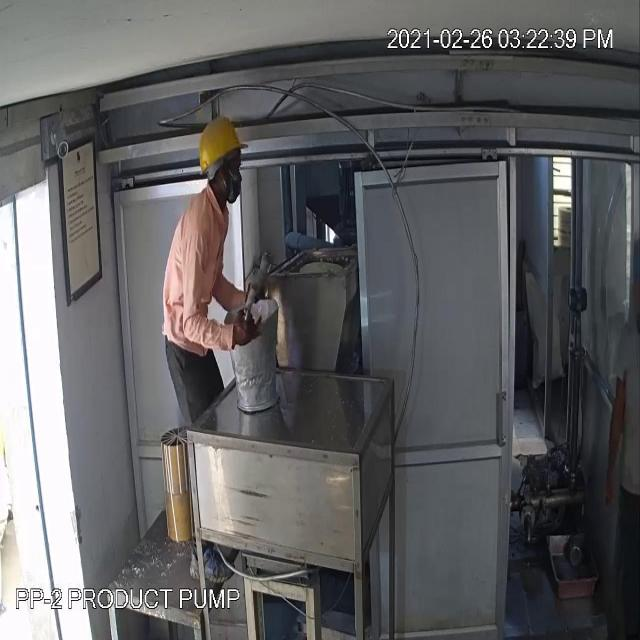helmet: (196, 104, 250, 179)
